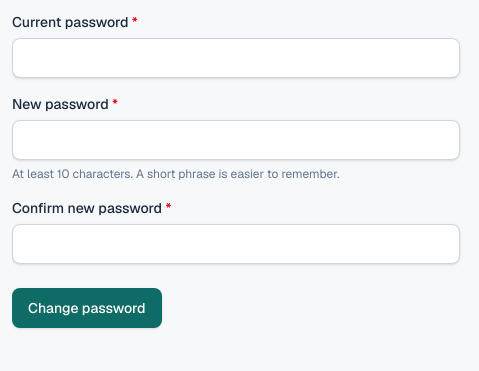
Scenario: ChangePasswordForm › blocks submission when the confirmation doesn't match
Type "old-password" into the password field labelled "Current password *". click: (236, 58)
box: [12,38,460,78]
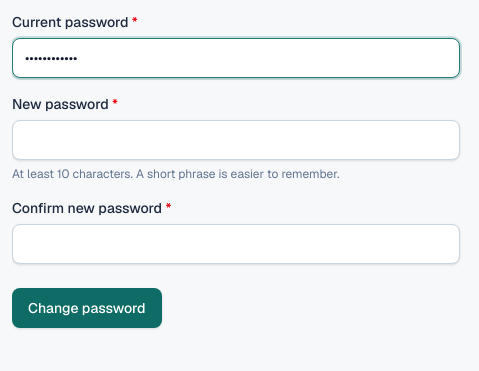
Type "brand-new-pass" into the password field labelled "New password *". click: (236, 140)
box: [12,120,460,160]
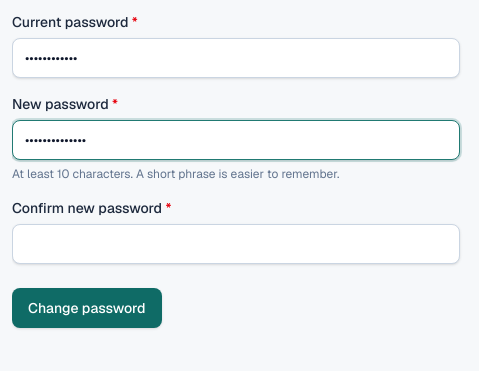
Type "brand-new-pas" into the password field labelled "Confirm new password *". click: (236, 244)
box: [12,224,460,264]
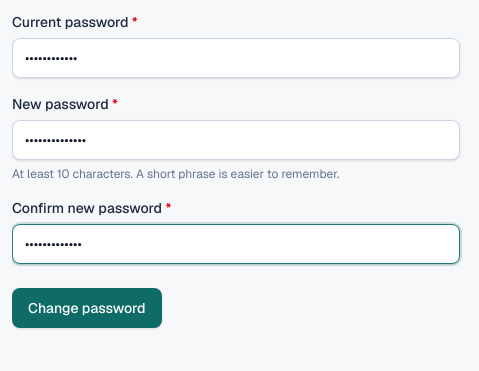
Click the button "Change password". click: (87, 308)
box: [12,288,162,328]
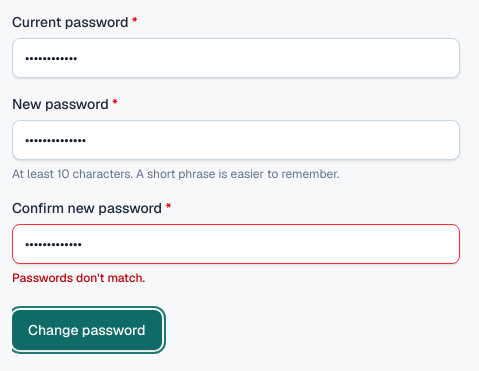
Check: the text "Passwords don't match." is shown, box [12,270,145,286]
